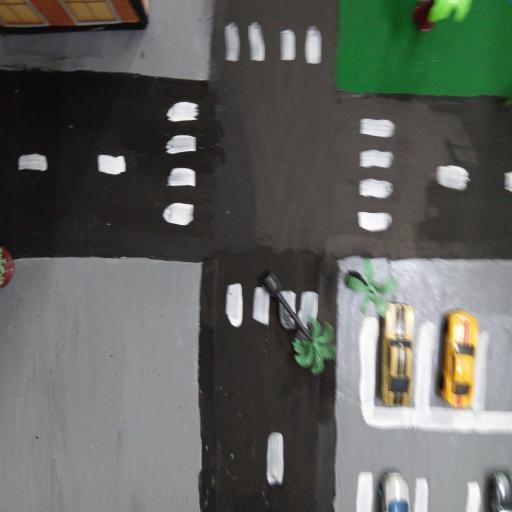fallen trees: (256, 260, 338, 384)
